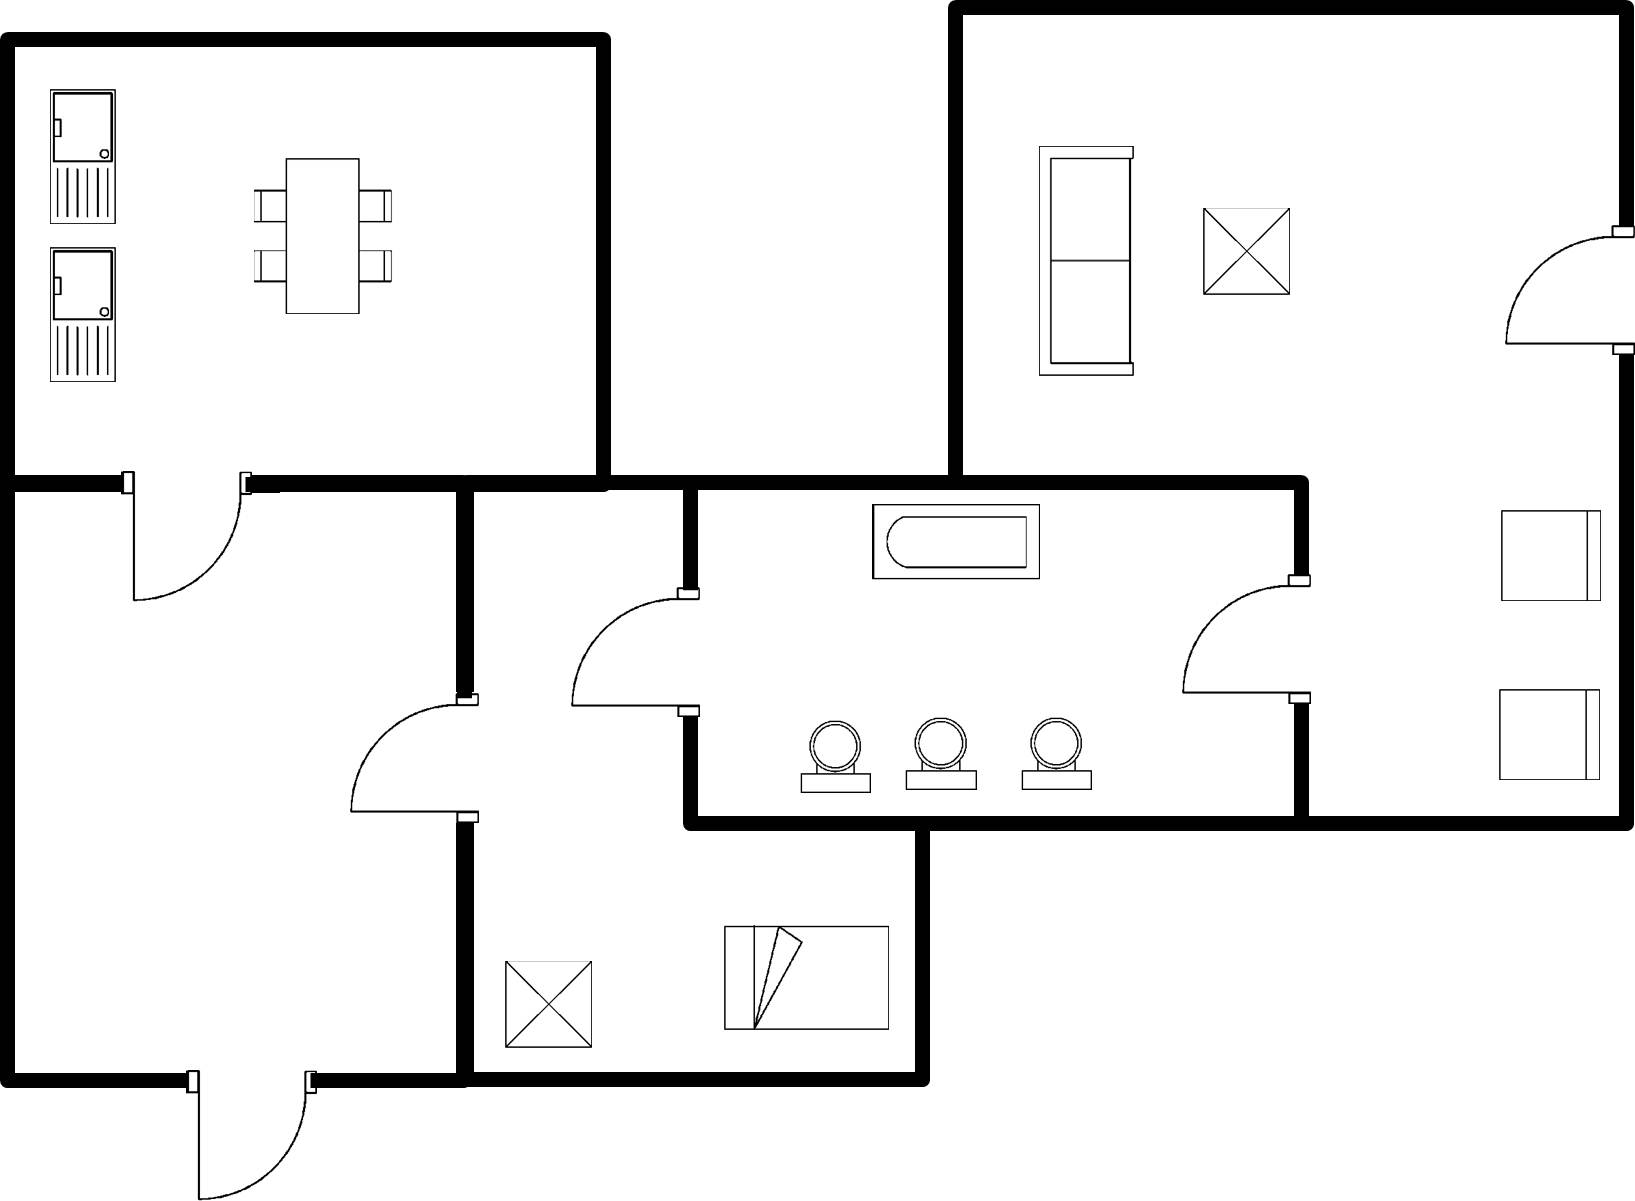bed: (714, 918, 898, 1040)
coffee_table: (497, 952, 600, 1057), (1195, 200, 1298, 304)
dining_table: (244, 147, 404, 324)
large_sink: (1012, 713, 1105, 801), (790, 713, 880, 802), (898, 713, 991, 798)
large_sofa: (1033, 138, 1142, 385)
sink: (42, 244, 126, 392), (40, 81, 122, 232)
small_sofa: (1487, 500, 1607, 609), (1490, 678, 1606, 789)
tub: (865, 497, 1051, 592)
